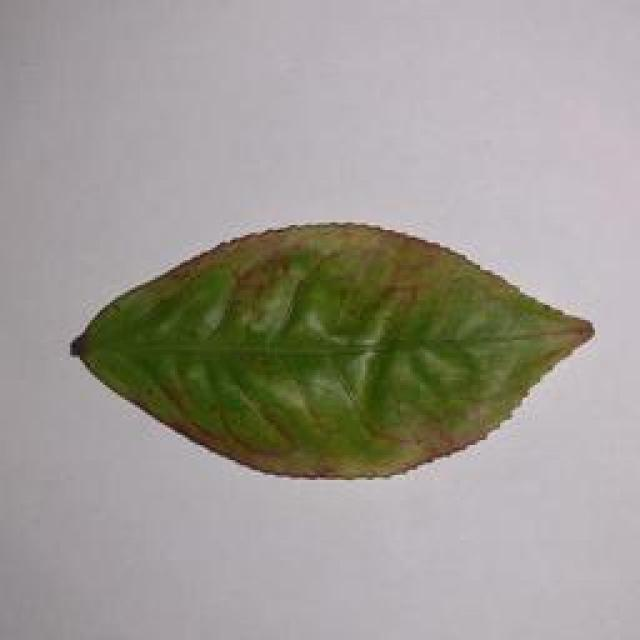Red Leaf Spot: (60, 216, 640, 474)
